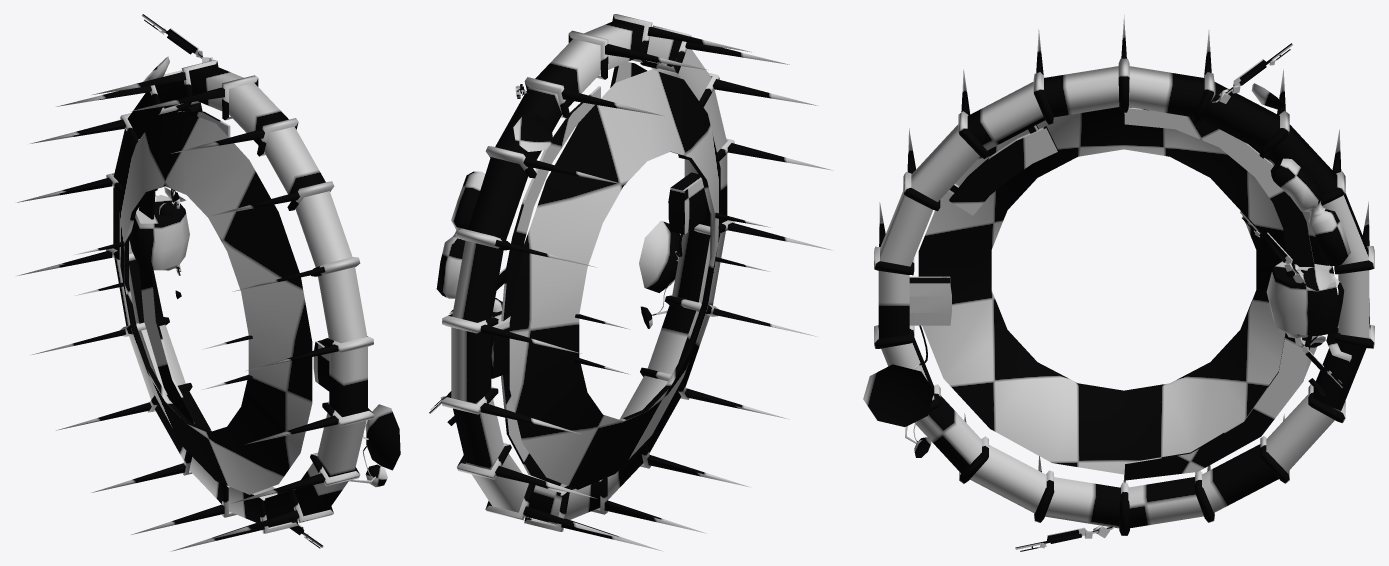
Rendered from jumpgate_pirate.obj.
The picture shows the model from 3 angles, left to right: view 1: azimuth 30°, elevation 25°; view 2: azimuth 150°, elevation 25°; view 3: azimuth 270°, elevation 25°; orthographic projection. The views are drawn at different scales.
Visible parts, largest first — view 1: jumpgate_pirate; view 2: jumpgate_pirate; view 3: jumpgate_pirate.
Part boxes in pixels (x1,y1,x2,y2): jumpgate_pirate: [17, 14, 400, 551]; jumpgate_pirate: [429, 14, 833, 551]; jumpgate_pirate: [863, 15, 1374, 551].
Size of the model in its own units: 192 by 519 by 499.
Materials: 1 (1 with a texture image).
